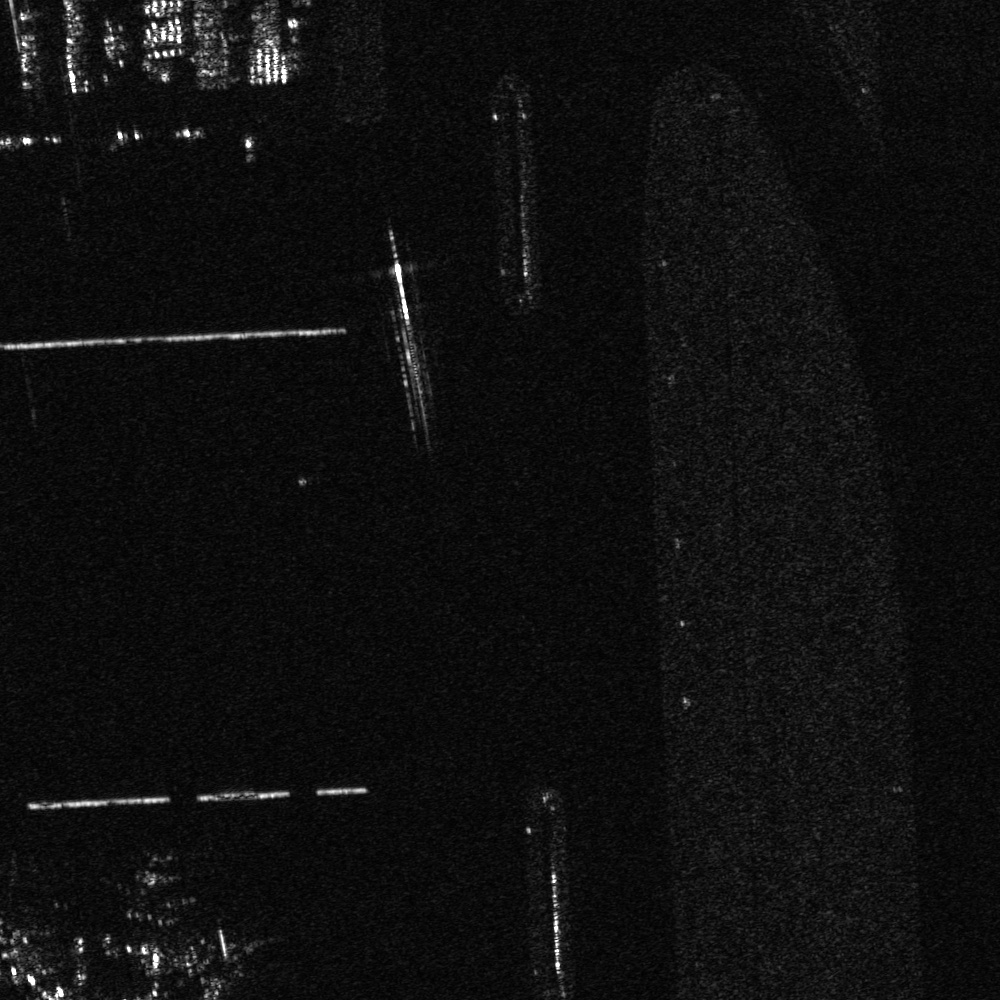A320/321: (117, 864, 195, 932)
